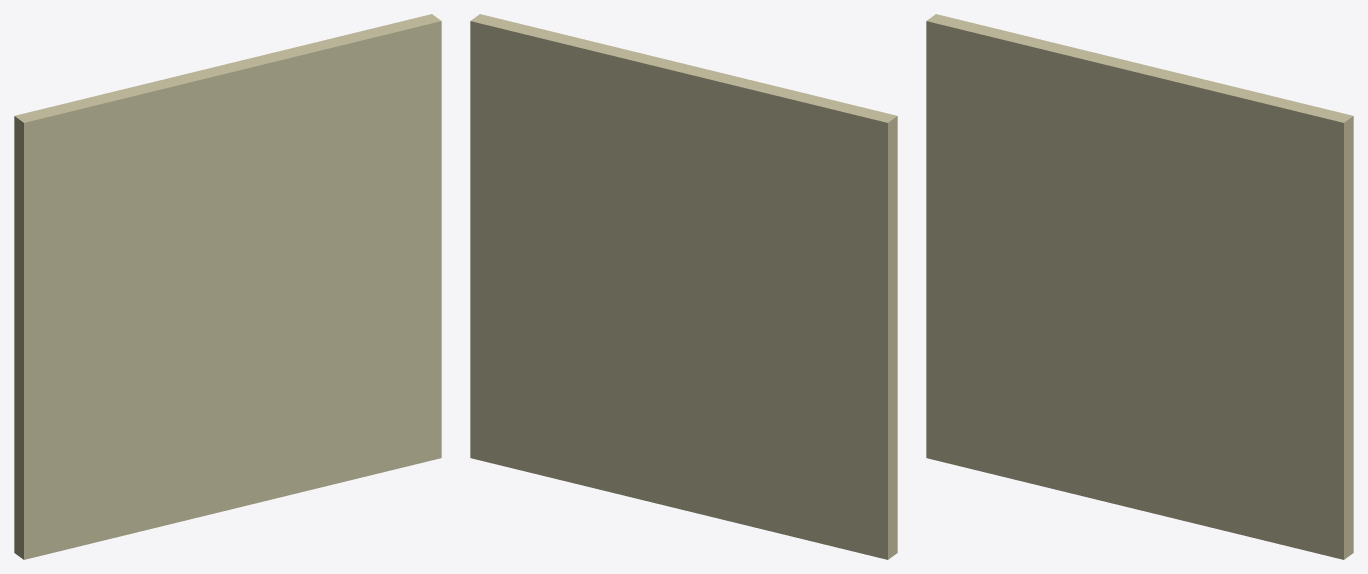
File: Wall_500x500.FBX
3 renders of one model, left to right at view 1: azimuth 30°, elevation 25°; view 2: azimuth 150°, elevation 25°; view 3: azimuth 330°, elevation 25°, orthographic.
Visible parts, largest first — view 1: Wall_500x500; view 2: Wall_500x500; view 3: Wall_500x500.
Boxes of the visible parts, <box> form: Wall_500x500: <box>14,14,441,559</box>; Wall_500x500: <box>470,14,897,559</box>; Wall_500x500: <box>926,14,1353,559</box>.
Size of the model in its own units: 500 by 20 by 500.
